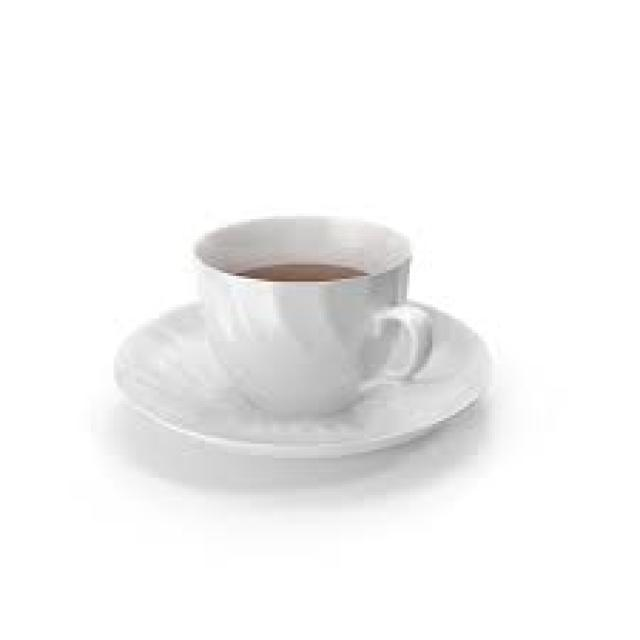taza: (182, 210, 440, 427)
